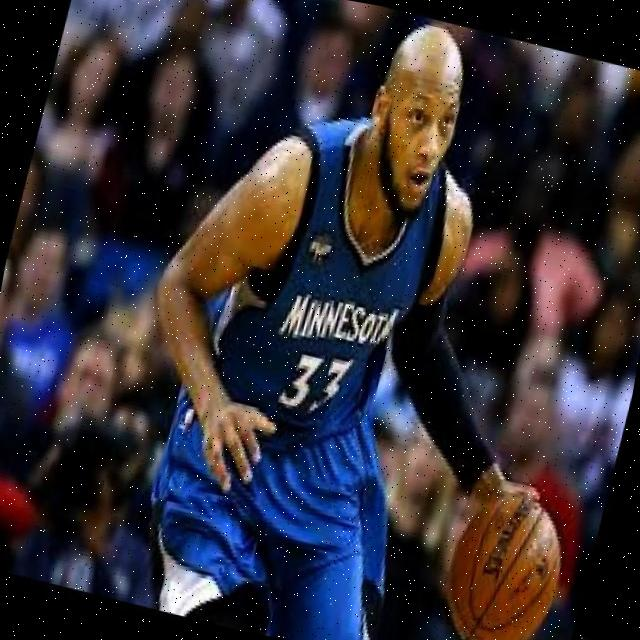ball: (431, 485, 574, 640)
